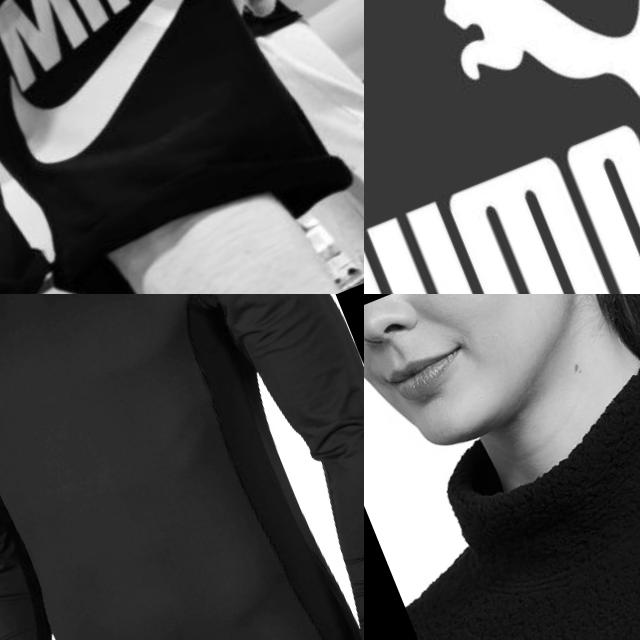NIKE_fake: (0, 0, 274, 208)
NIKE_original: (33, 294, 177, 329)
PUMA_original: (364, 0, 640, 294)
